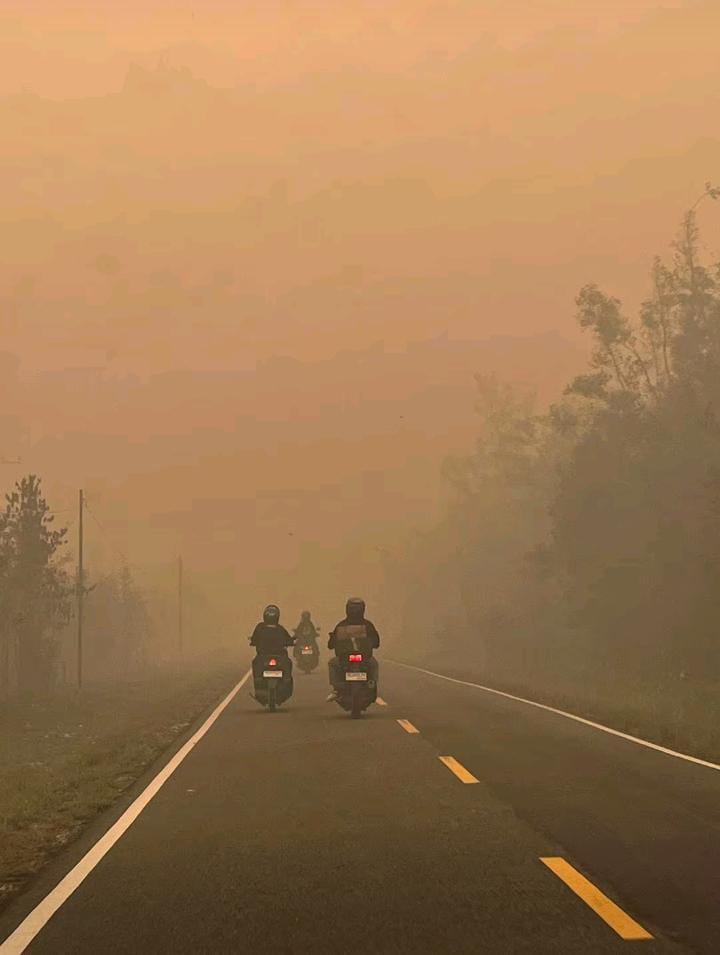Deteksi-Objek-Citra-Berasap: (0, 0, 720, 700)
Kendaraan: (329, 648, 380, 719), (251, 645, 295, 711), (294, 641, 320, 675)
Manusia: (327, 598, 381, 702), (249, 604, 295, 688), (292, 611, 320, 659)
Vegetasi: (453, 180, 720, 723), (0, 473, 145, 704)
